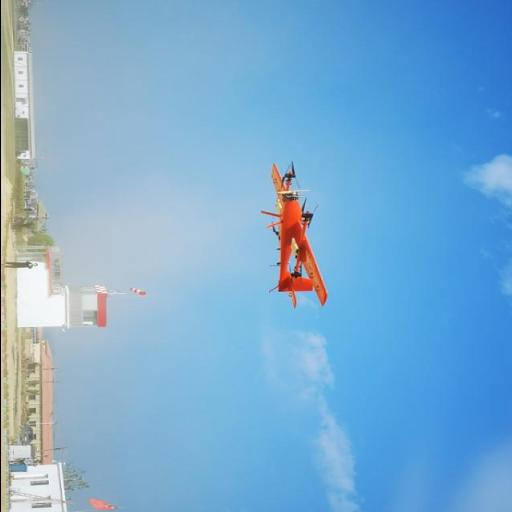uav: (249, 147, 328, 311)
